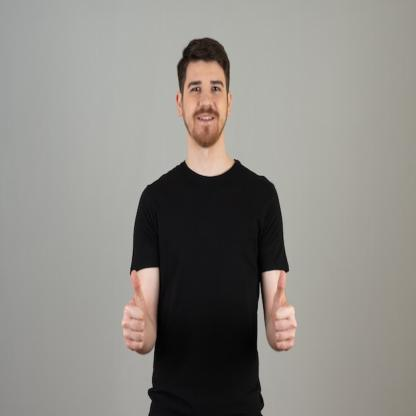thumb_up: (120, 269, 152, 353), (270, 266, 298, 354)
